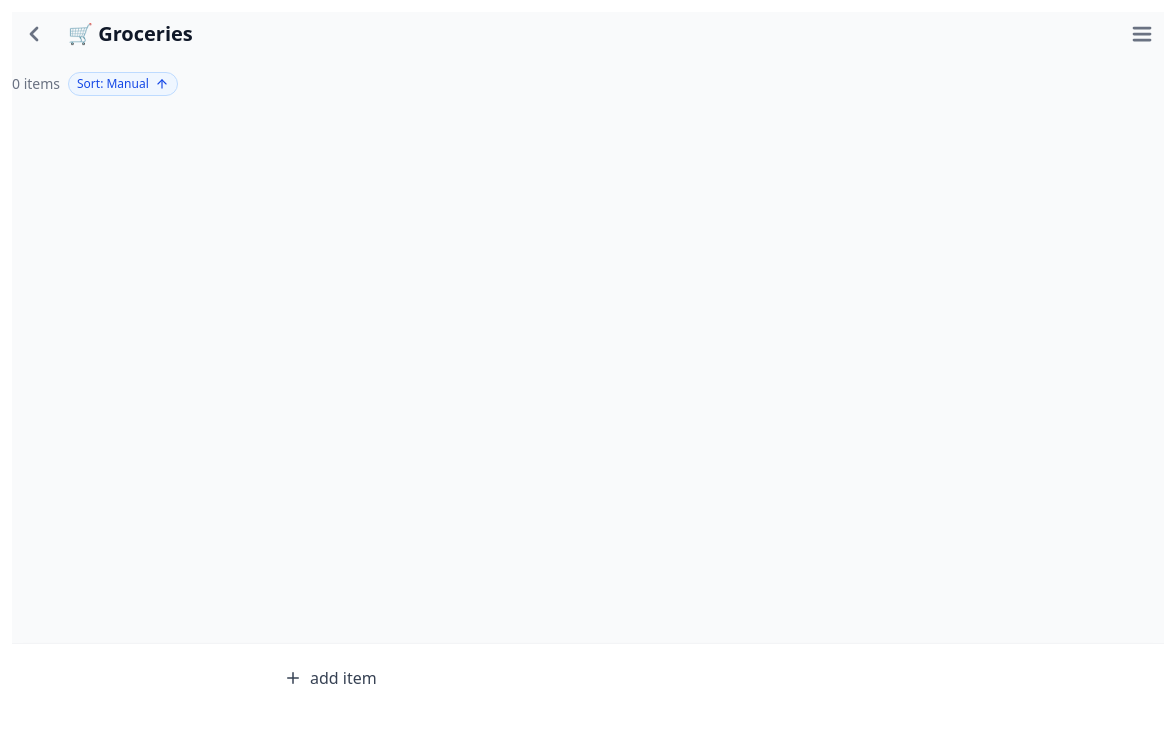
Test: ListPage menu presentation › keeps item and category controls for editors but hides list management
Check: the 4th icon is shown, box [284,669,302,687]
Check: the button "add item" does not show "+ add item", box [268,656,908,700]
Click the button named "List options" at (1142, 34), box [1120,12,1164,56]
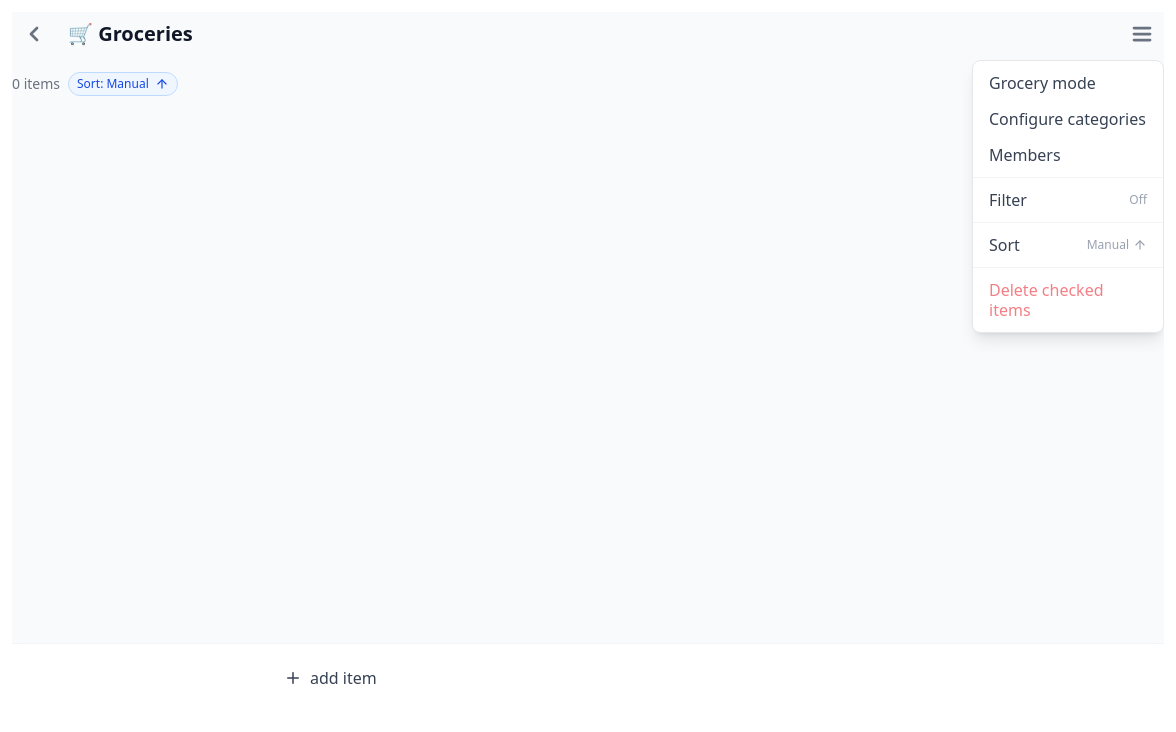
Check: the button "Configure categories" is shown, box [973,101,1163,137]
